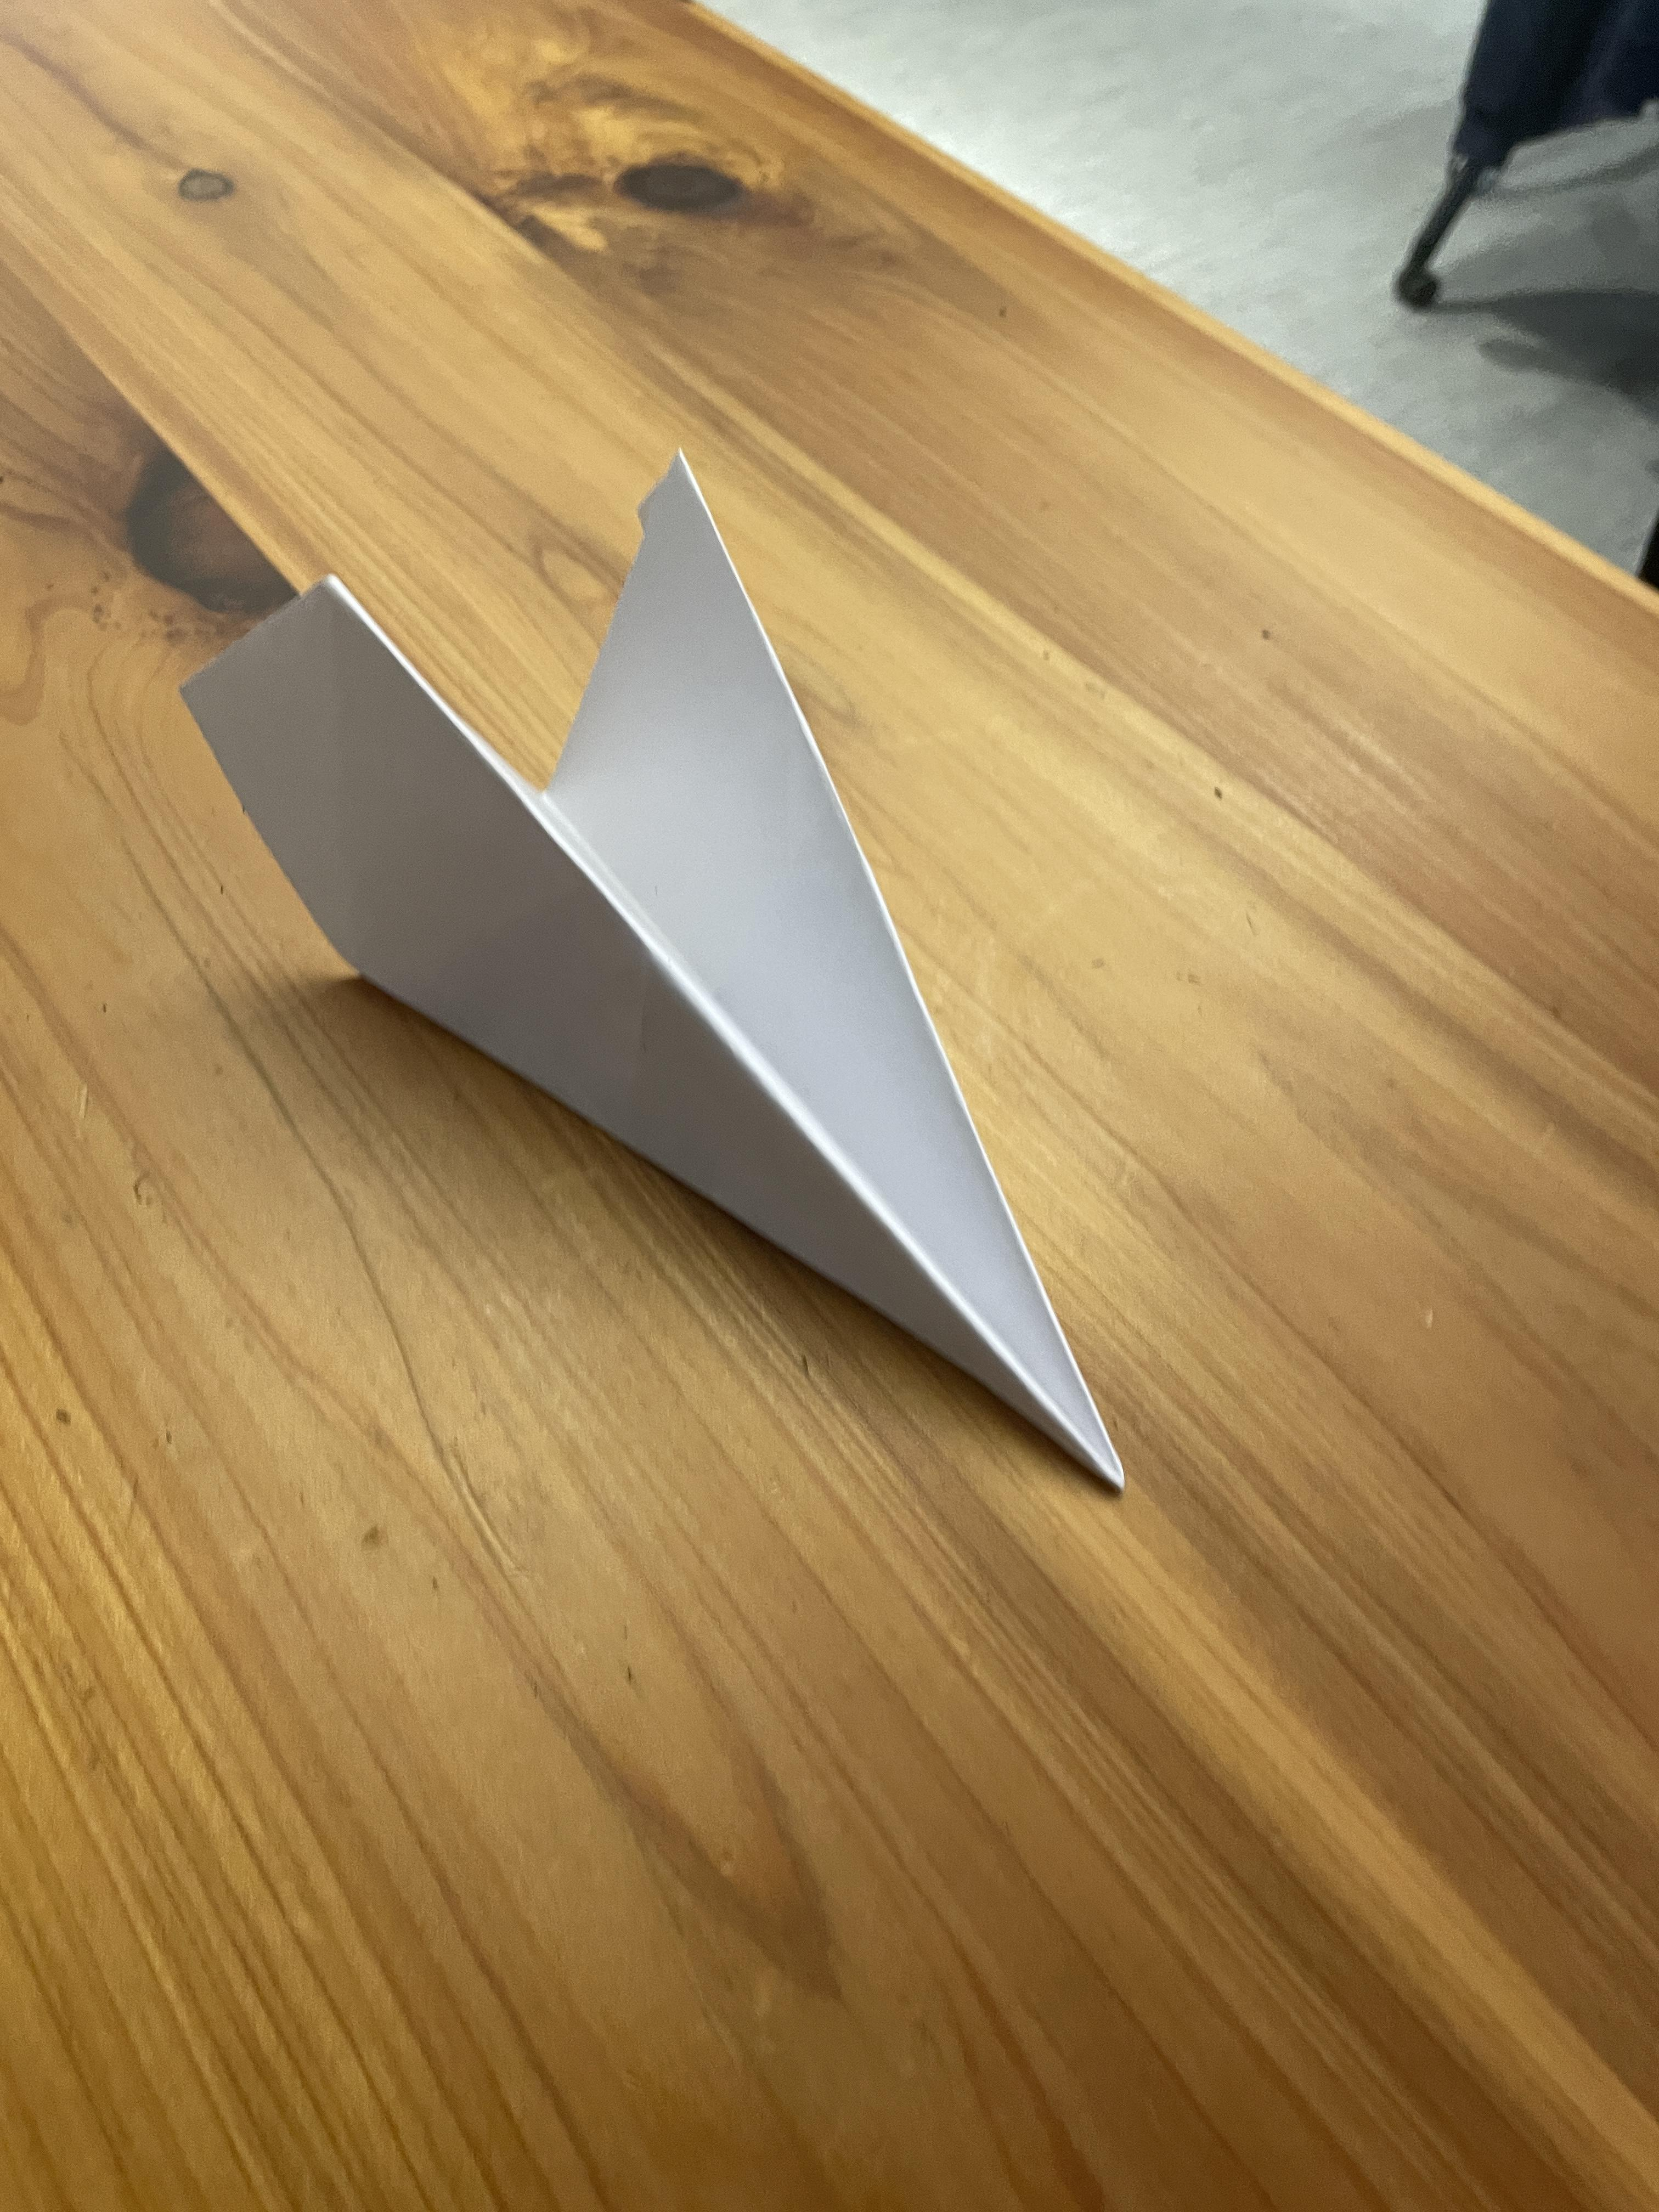shape_3: (38, 319, 1351, 1735)
